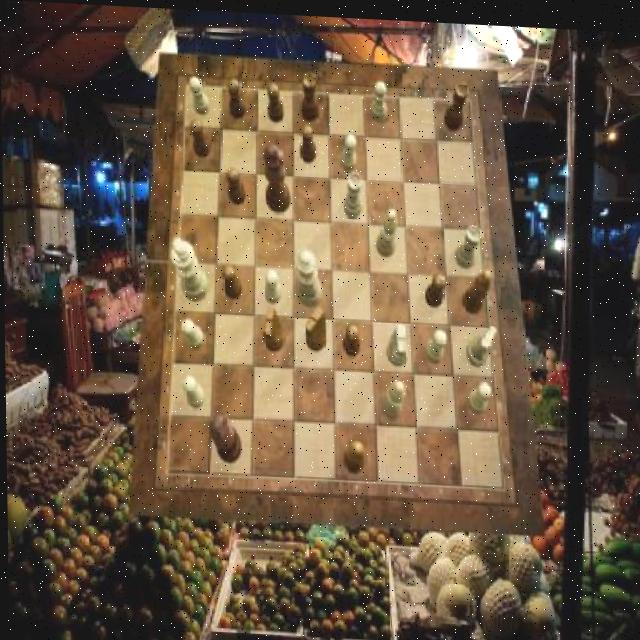bishop: (461, 263, 492, 310), (342, 437, 365, 472)
black-bishop: (209, 411, 241, 462)
black-king: (262, 303, 285, 349), (303, 303, 326, 349)
black-knight: (190, 117, 211, 156), (424, 268, 446, 303), (221, 263, 242, 298), (226, 165, 246, 201), (229, 77, 247, 117), (300, 121, 317, 161), (269, 80, 285, 121), (342, 320, 360, 355)
black-pawn: (263, 142, 291, 212)
black-queen: (444, 77, 469, 127), (299, 69, 319, 119)
black-rook: (374, 205, 398, 255), (379, 375, 404, 416)
white-bishop: (170, 234, 209, 300)
white-king: (466, 319, 498, 362), (385, 318, 408, 362)
white-knight: (466, 376, 490, 411), (423, 325, 446, 360), (181, 373, 204, 407), (190, 74, 210, 113), (181, 316, 204, 348), (370, 77, 387, 119), (340, 131, 357, 169), (264, 266, 282, 301)
white-pawn: (295, 246, 323, 305)
white-queen: (455, 220, 482, 265), (343, 168, 363, 215)
